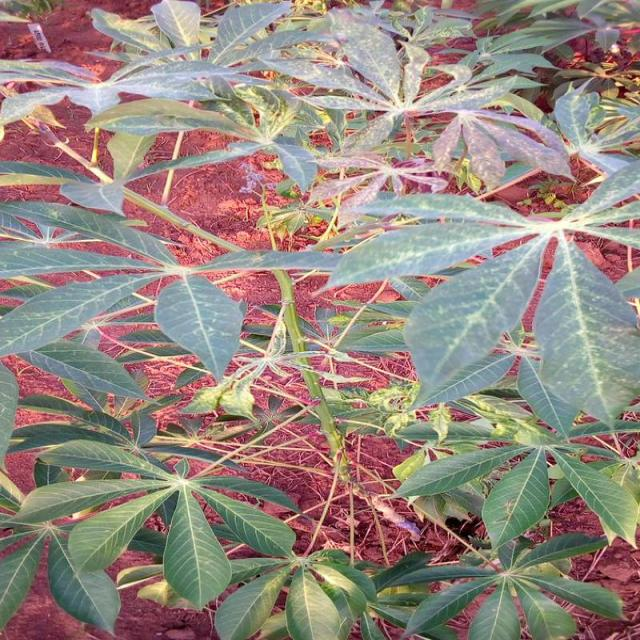cassava leaf: (0, 0, 638, 638), (402, 230, 548, 411), (532, 234, 638, 432), (153, 273, 246, 383)
